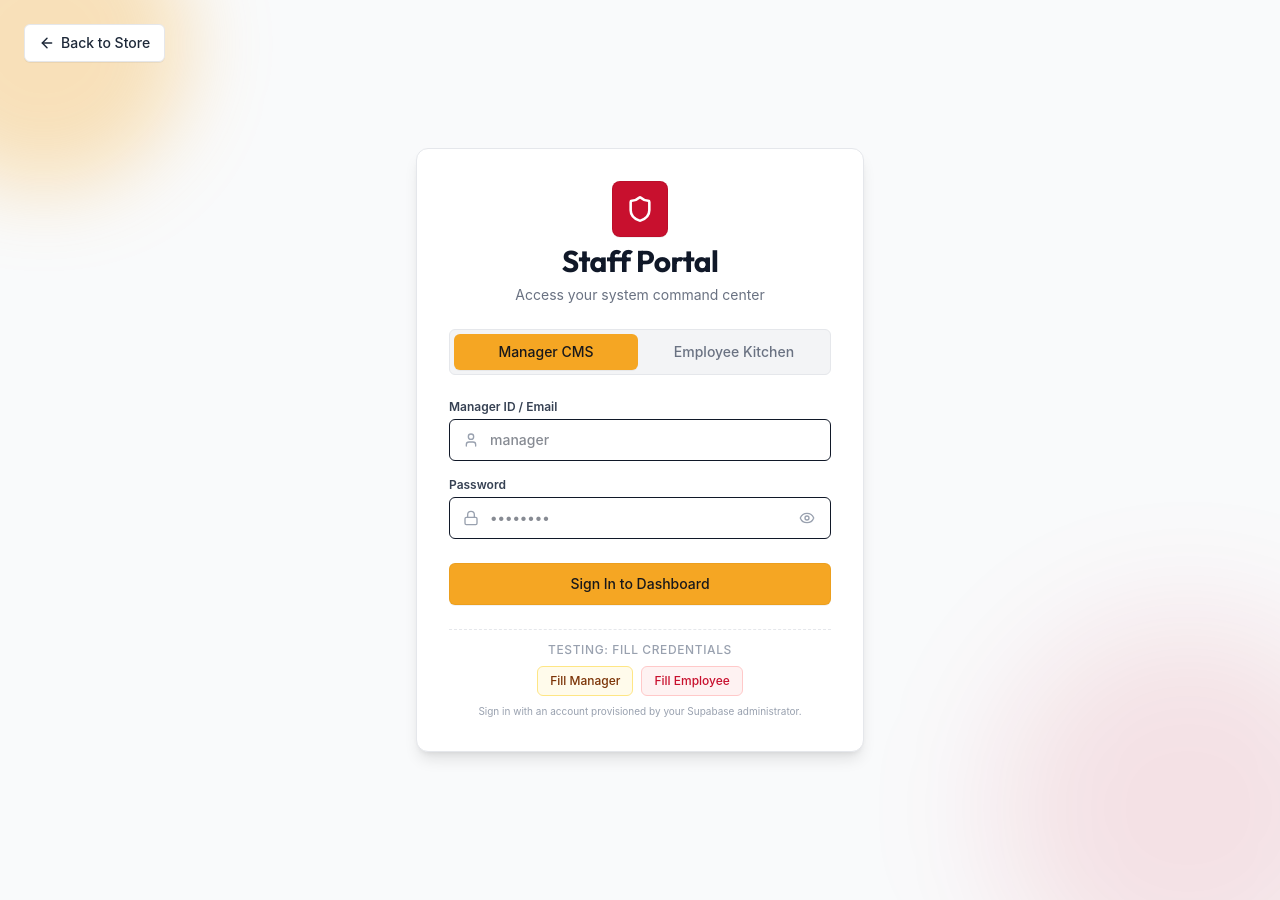
StaffLogin › shows error when authenticateStaff fails
In the field with placeholder "manager": (640, 440) [449,419,831,461], type "bad_user"
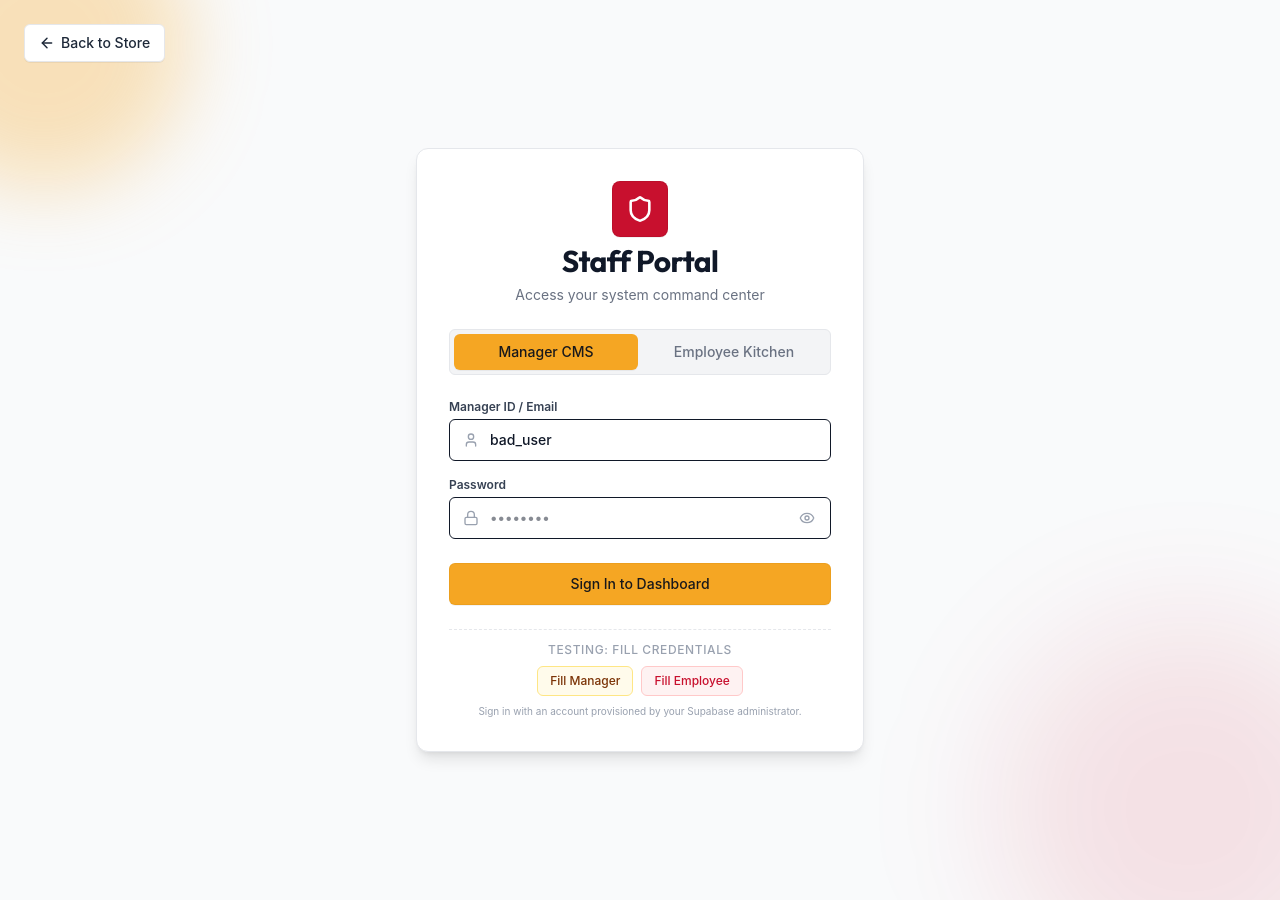
In the field with placeholder "••••••••": (640, 518) [449,497,831,539], type "bad_pass"
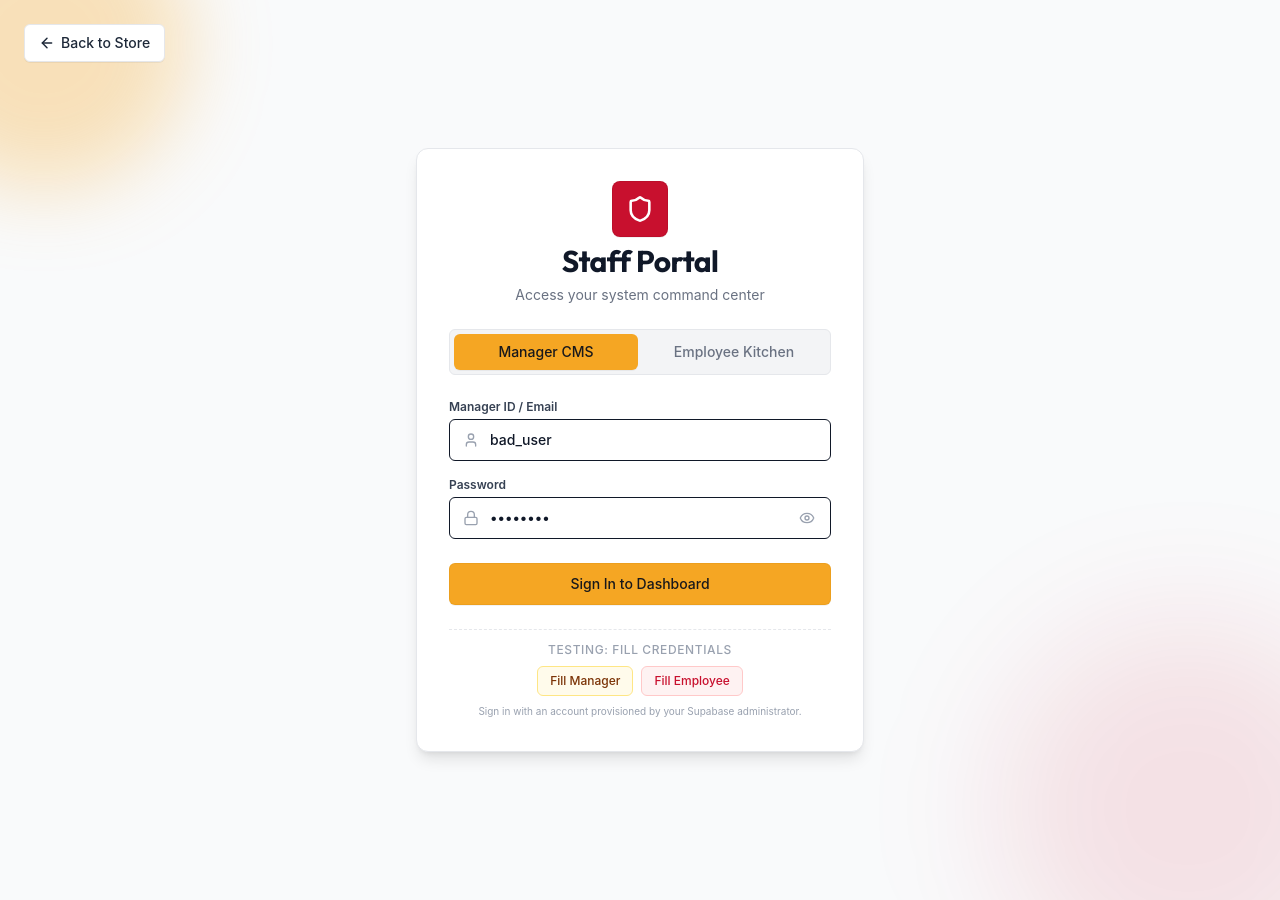
Click the button "Sign In to Dashboard": click(640, 584) [449,563,831,605]
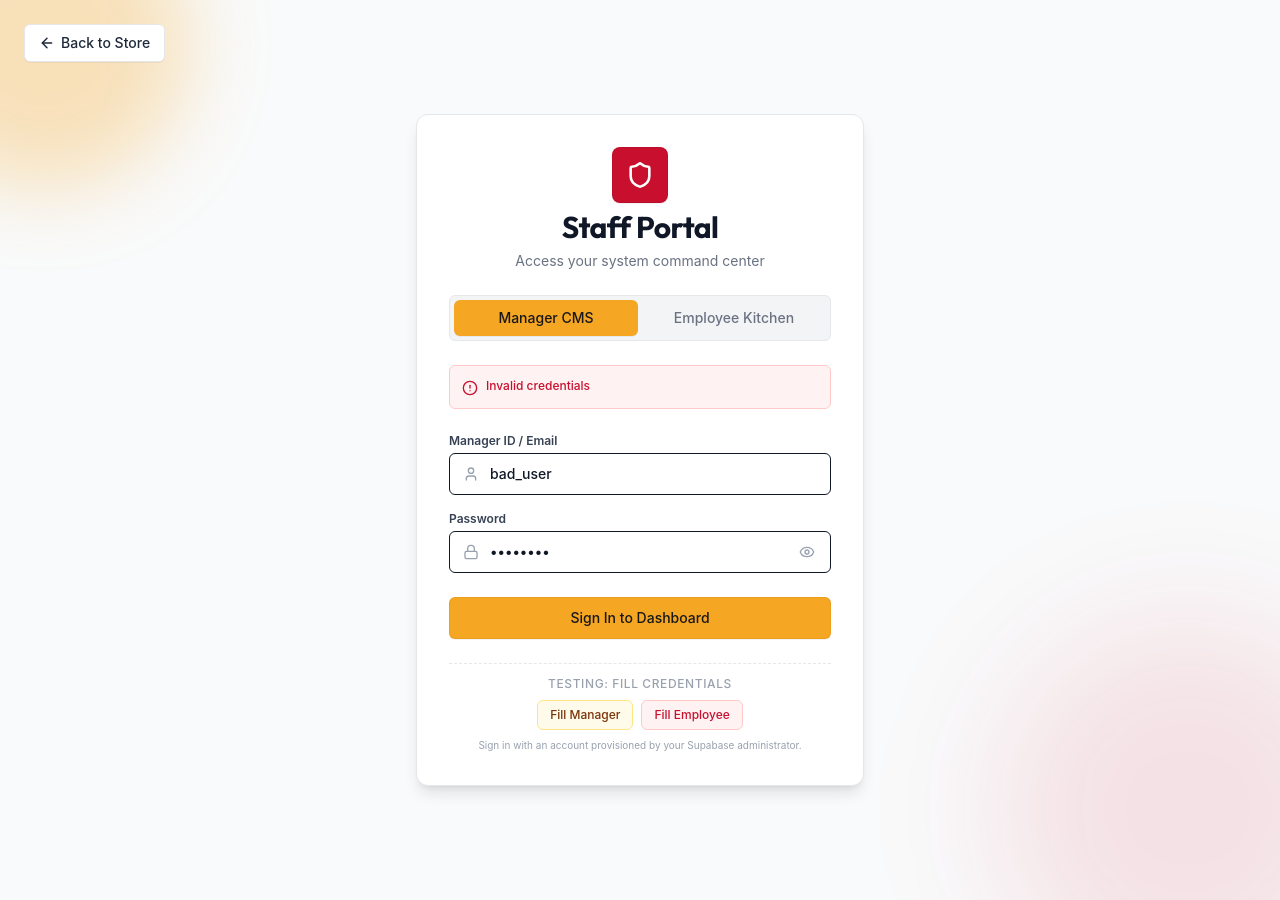
Check: the text "Invalid credentials" is shown, box [486,378,590,394]
